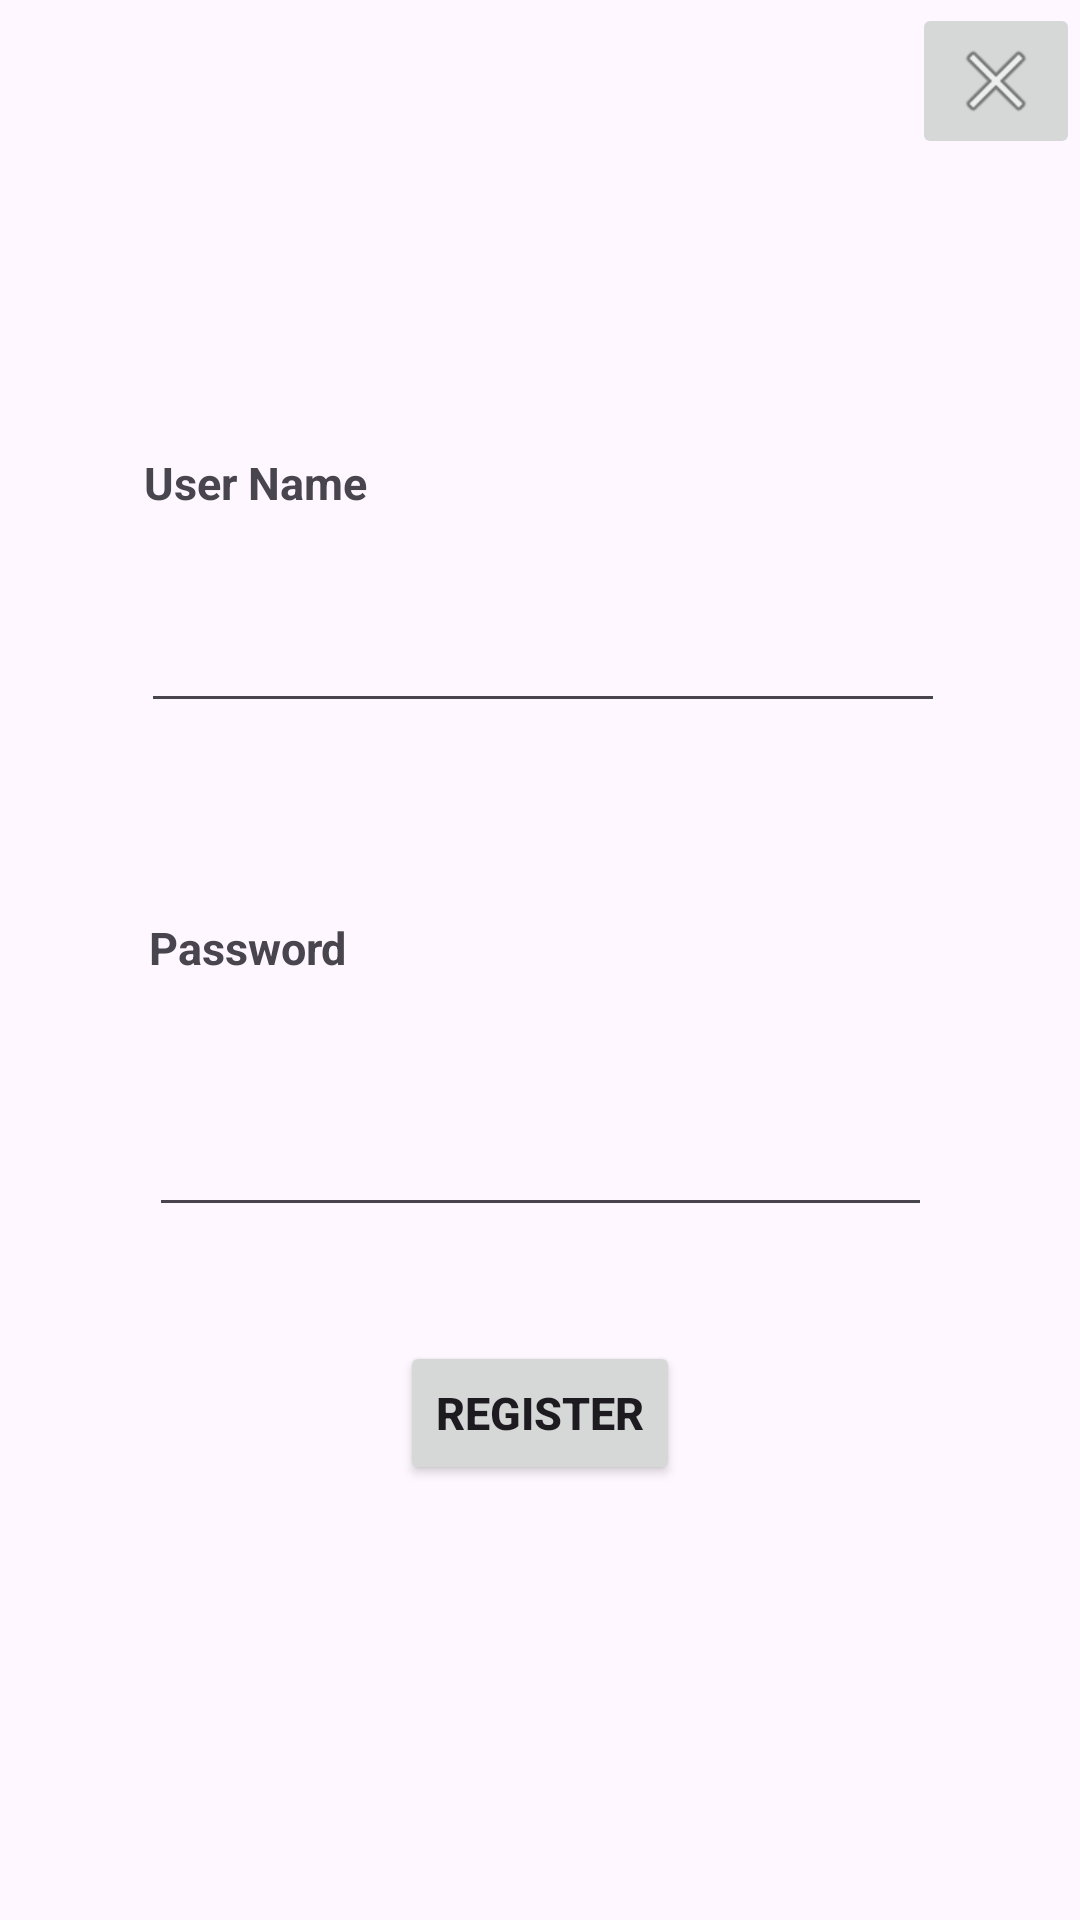

Icon bounding boxes for this 1080 x 1920 phone screenshot, format (x1, y1, x2, y2):
close clear cancel: (924, 21, 1068, 141)
